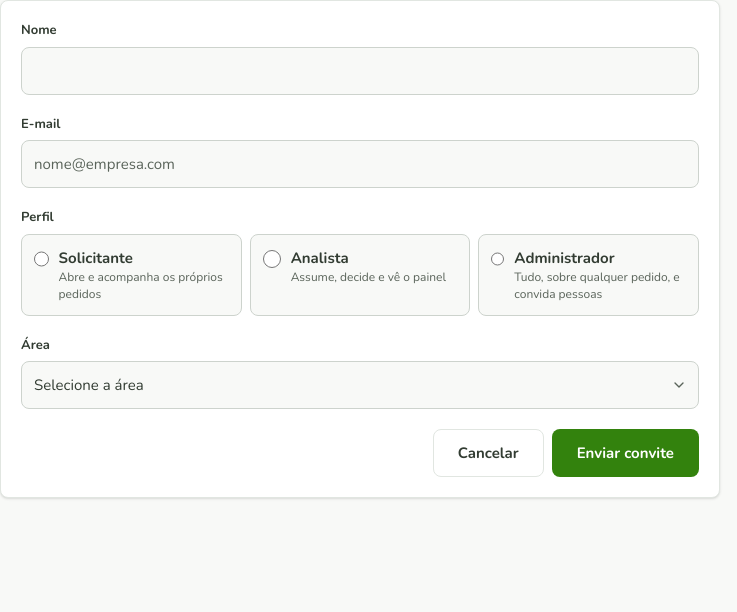
Test case: InvitationForm › shows each 422 message on its field and focuses the first one
This screenshot has width=737, height=612.
Type "  Maria Souza " into the field labelled "Nome" at (360, 70), box 21,46 -> 699,94
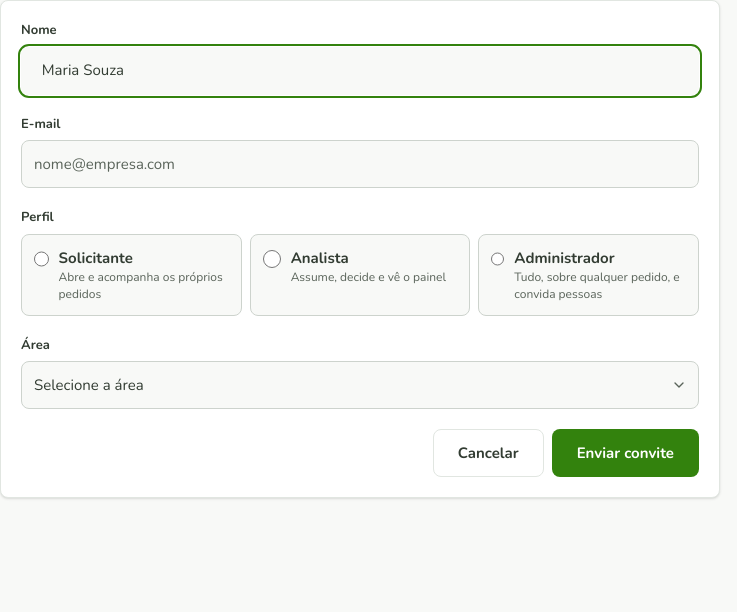
Type " maria@empresa.com " into the field labelled "E-mail" at (360, 164), box 21,140 -> 699,188
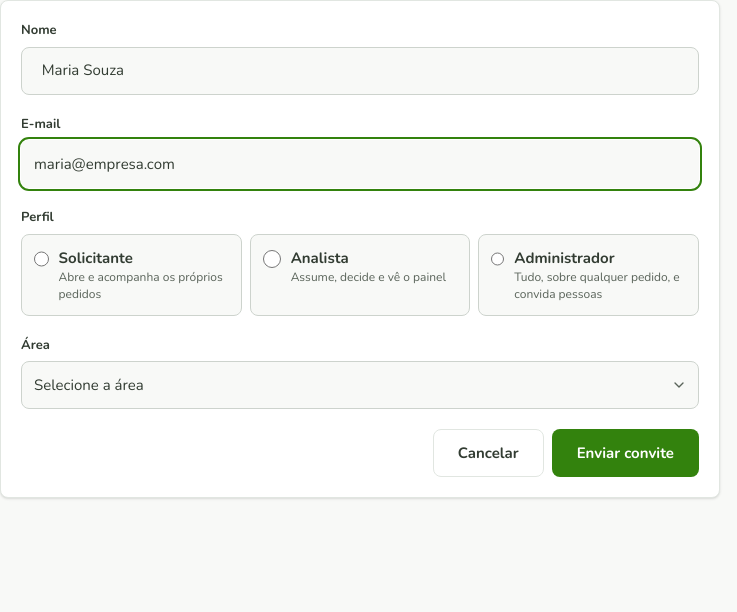
Click the radio button labelled "Analista Assume, decide e vê o painel" at (272, 258), box 263,250 -> 281,268
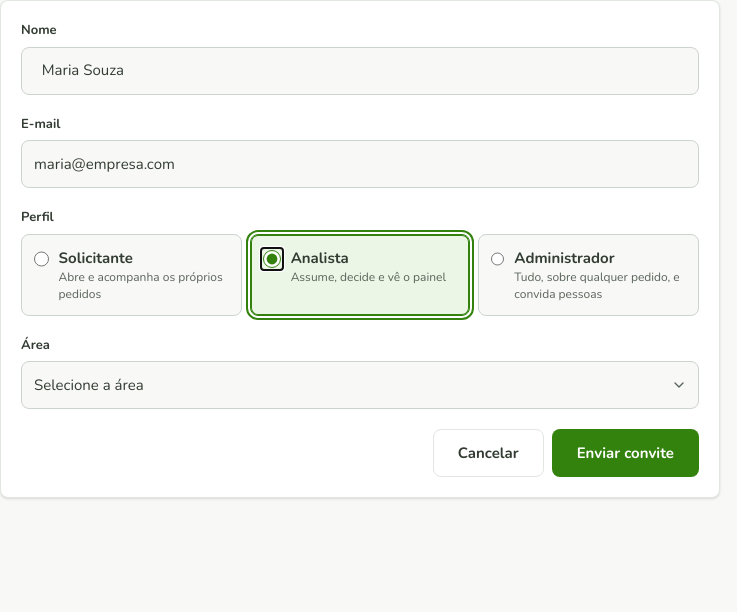
Select "Operações" in the dropdown labelled "Área" at (360, 385), box 21,361 -> 699,409
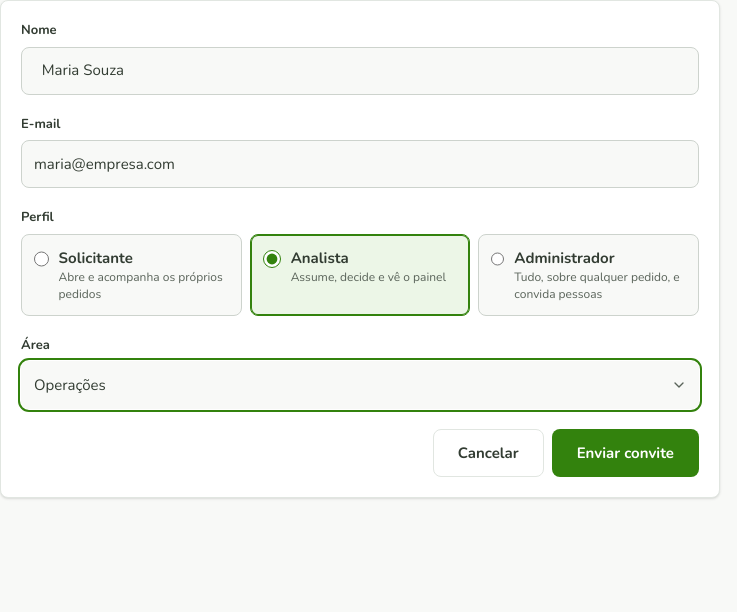
Click the button "Enviar convite" at (625, 453), box 552,429 -> 699,477
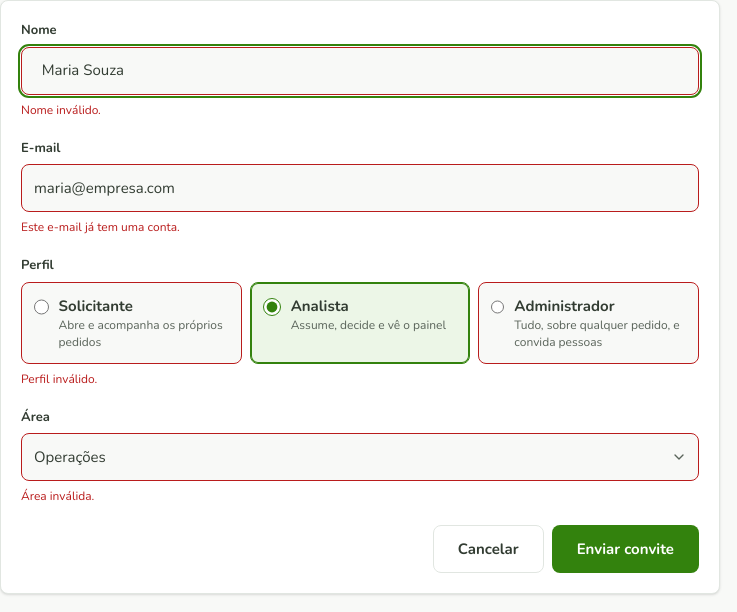
Expected: the text "Nome inválido." is shown, 21,102 -> 101,118
Expected: the text "Este e-mail já tem uma conta." is shown, 21,219 -> 180,235
Expected: the text "Perfil inválido." is shown, 21,371 -> 97,387
